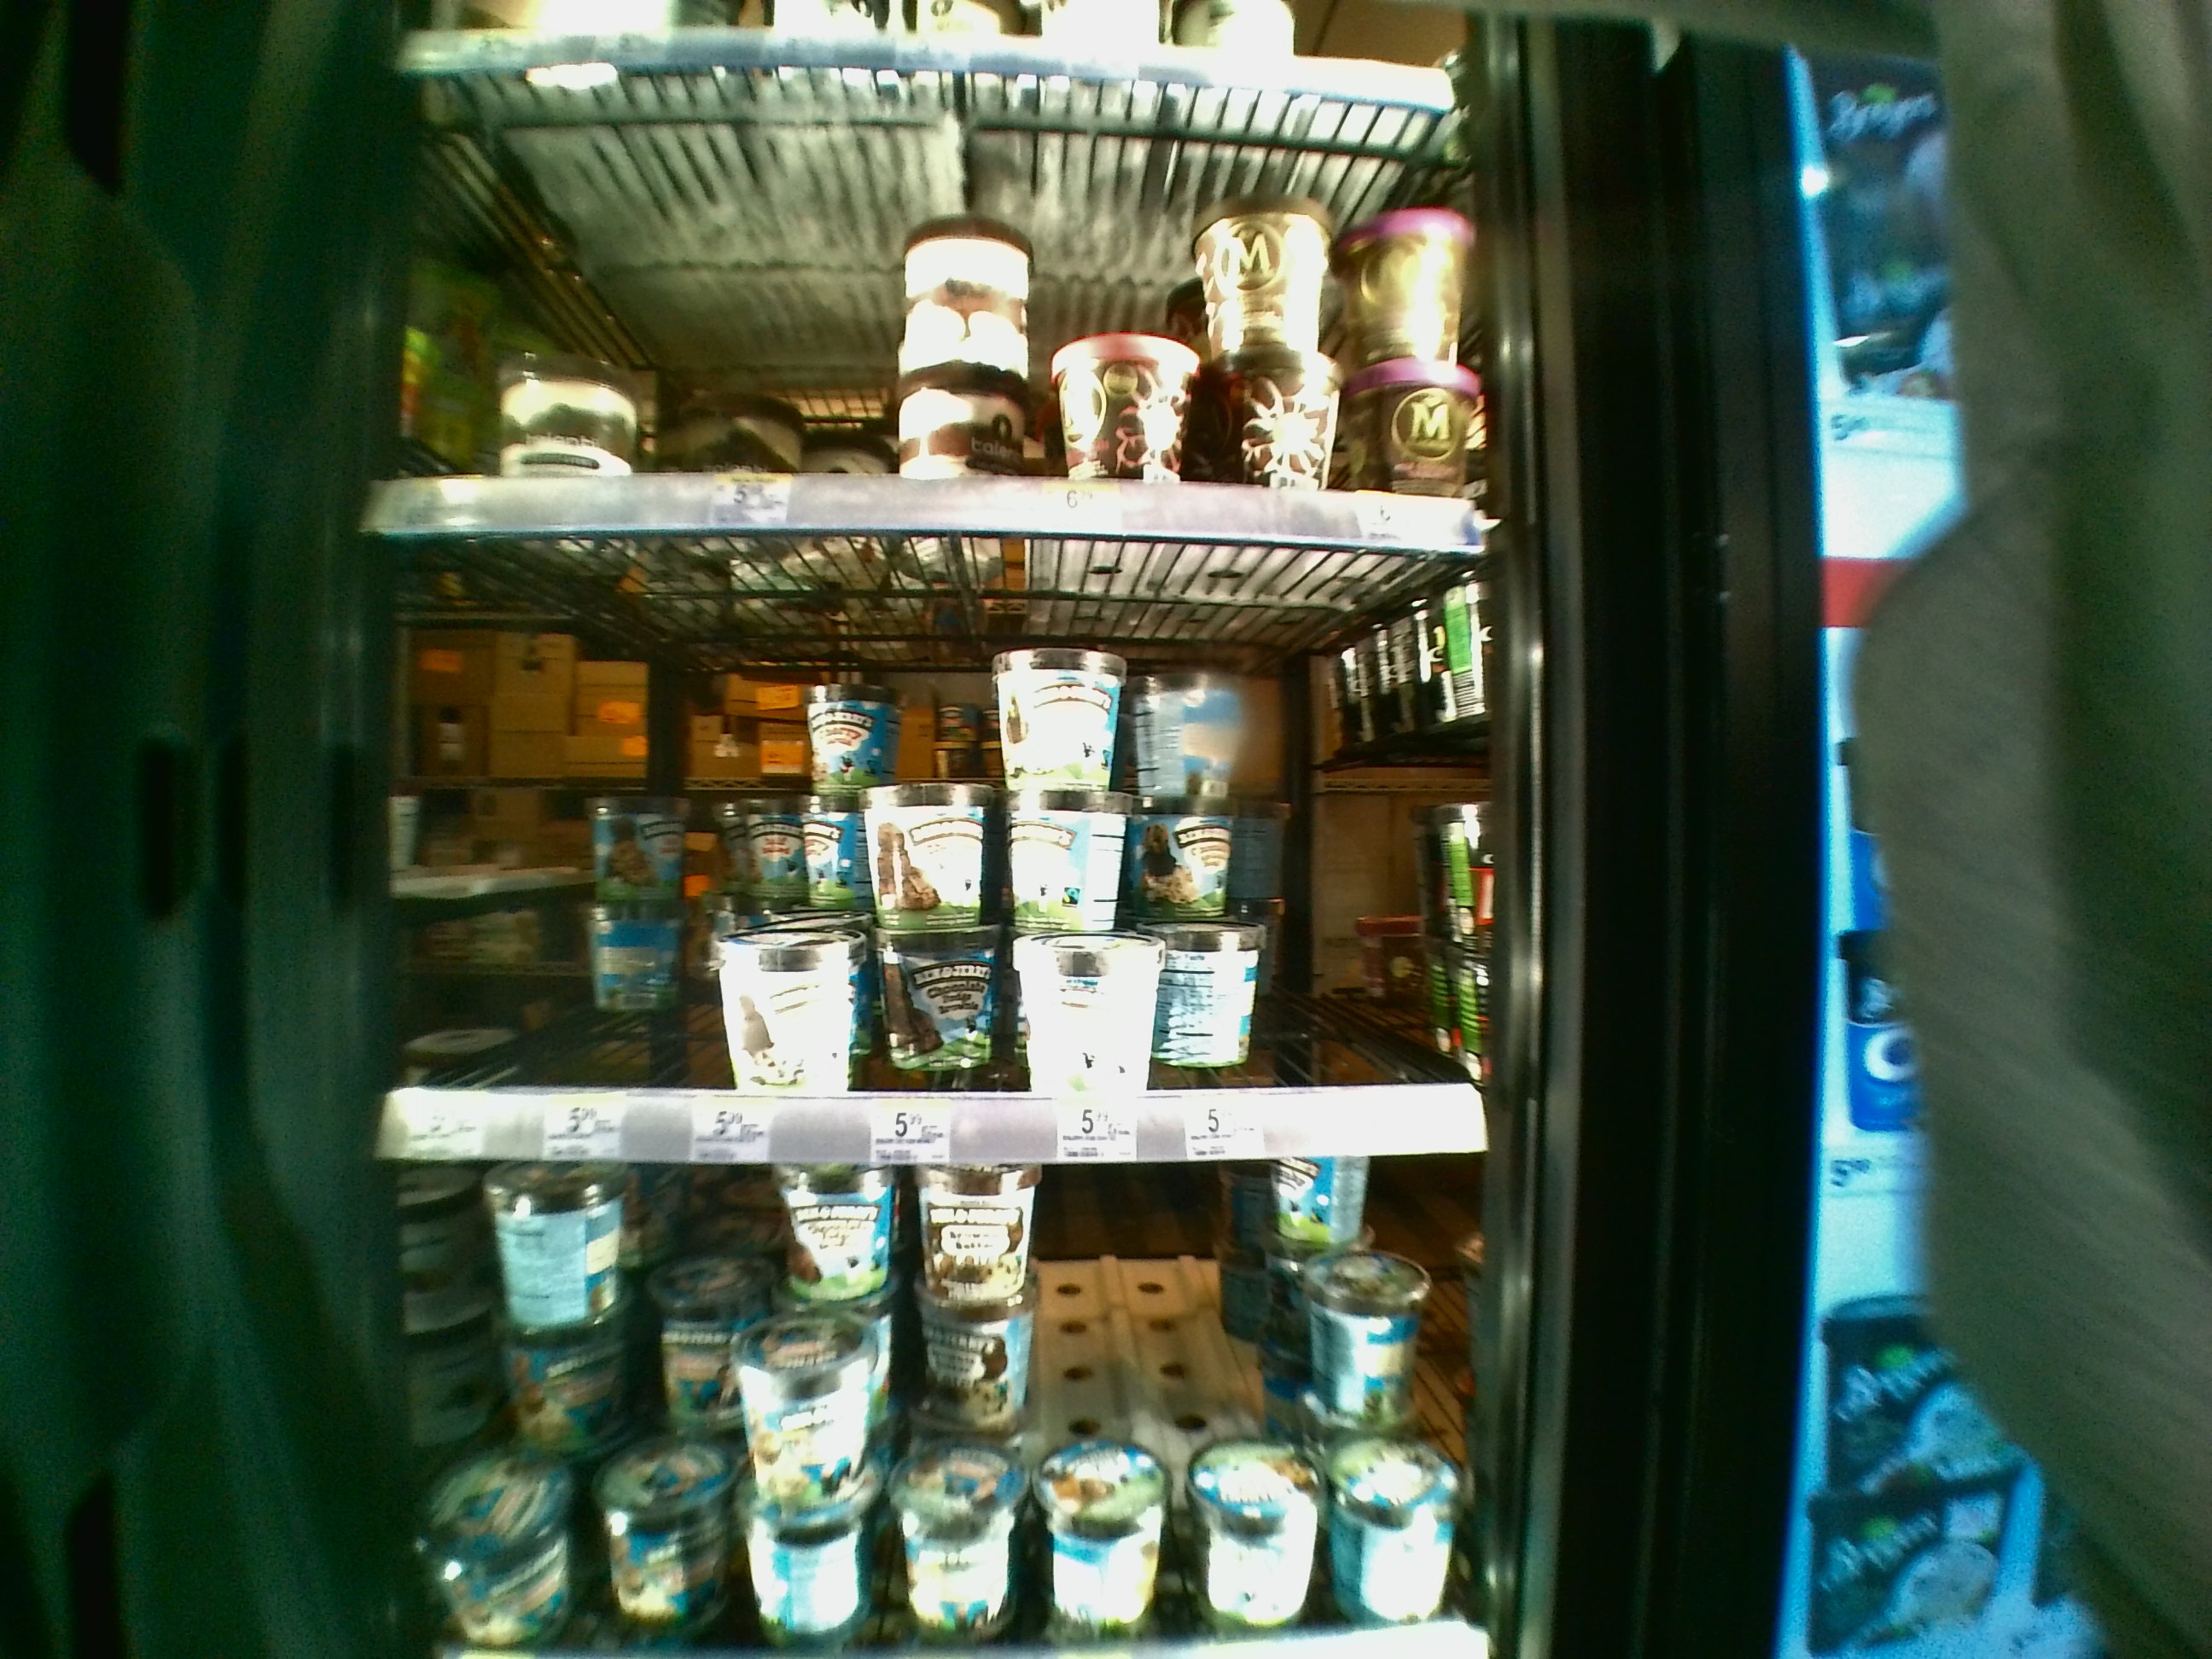shelf: (381, 556, 1489, 1154), (369, 85, 1479, 538)
